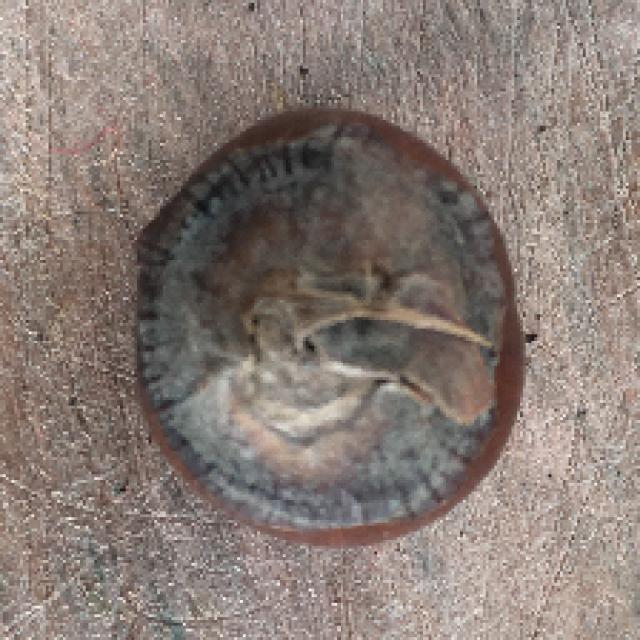damagedHazelnut: (121, 87, 536, 561)
